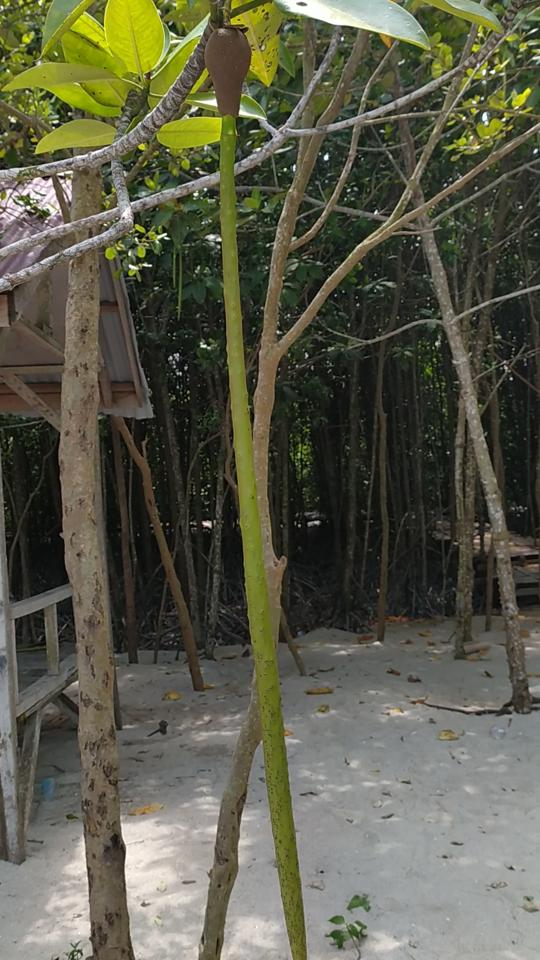mentah: (189, 21, 327, 958)
